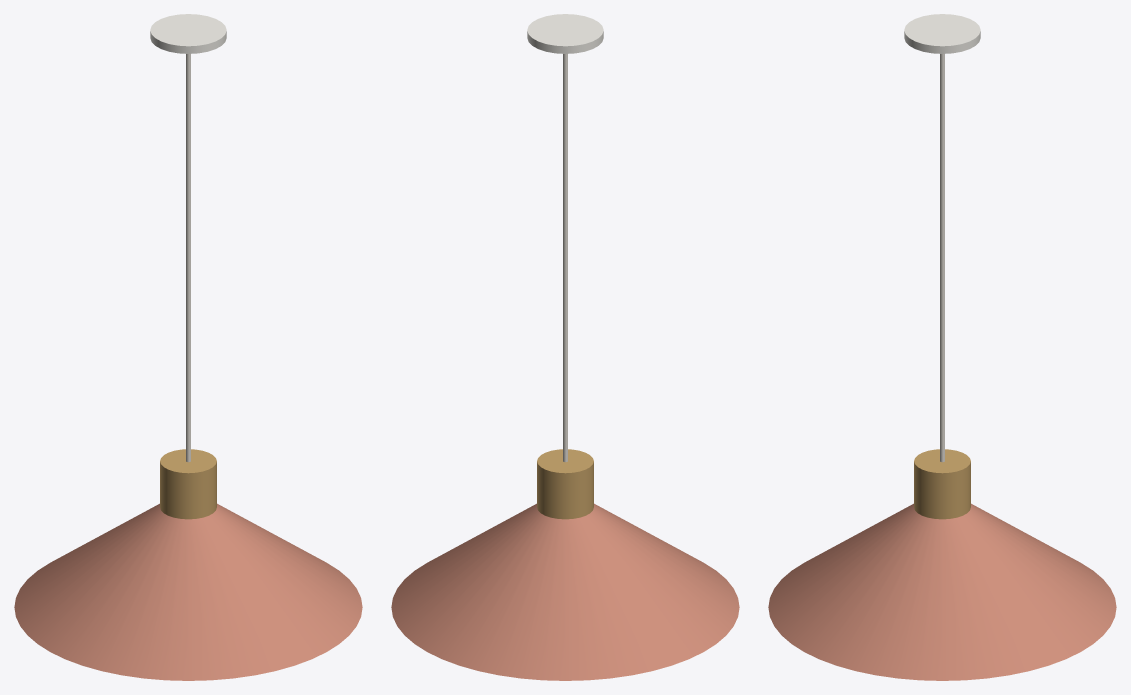
3 views of the same model, side by side, from view 1: azimuth 30°, elevation 25°; view 2: azimuth 150°, elevation 25°; view 3: azimuth 270°, elevation 25° (orthographic).
Visible parts, largest first — view 1: Cone, Collar, Canopy, Cord; view 2: Cone, Collar, Canopy, Cord; view 3: Cone, Collar, Canopy, Cord.
Part boxes in pixels (x1,y1,x2,y2): Cone: (14,503,362,680); Collar: (160,449,216,519); Canopy: (150,14,226,53); Cord: (186,54,190,462); Cone: (391,503,739,680); Collar: (537,449,593,519); Canopy: (527,14,603,53); Cord: (563,54,567,462); Cone: (768,503,1116,680); Collar: (914,449,970,519); Canopy: (904,14,980,53); Cord: (940,54,944,462).
Size of the model in its own units: 0.41 by 0.75 by 0.41.
